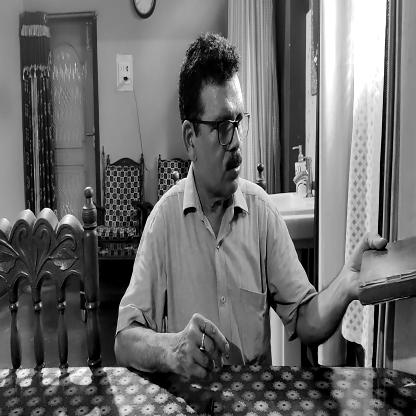Distracted: (186, 63, 254, 206)
